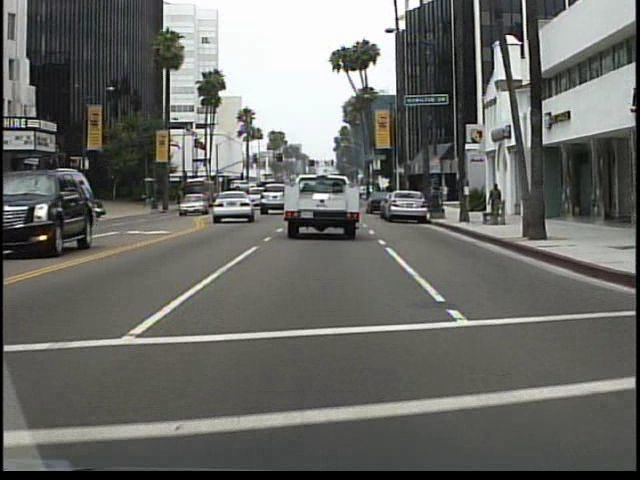person: (485, 181, 504, 220), (141, 190, 151, 213)
